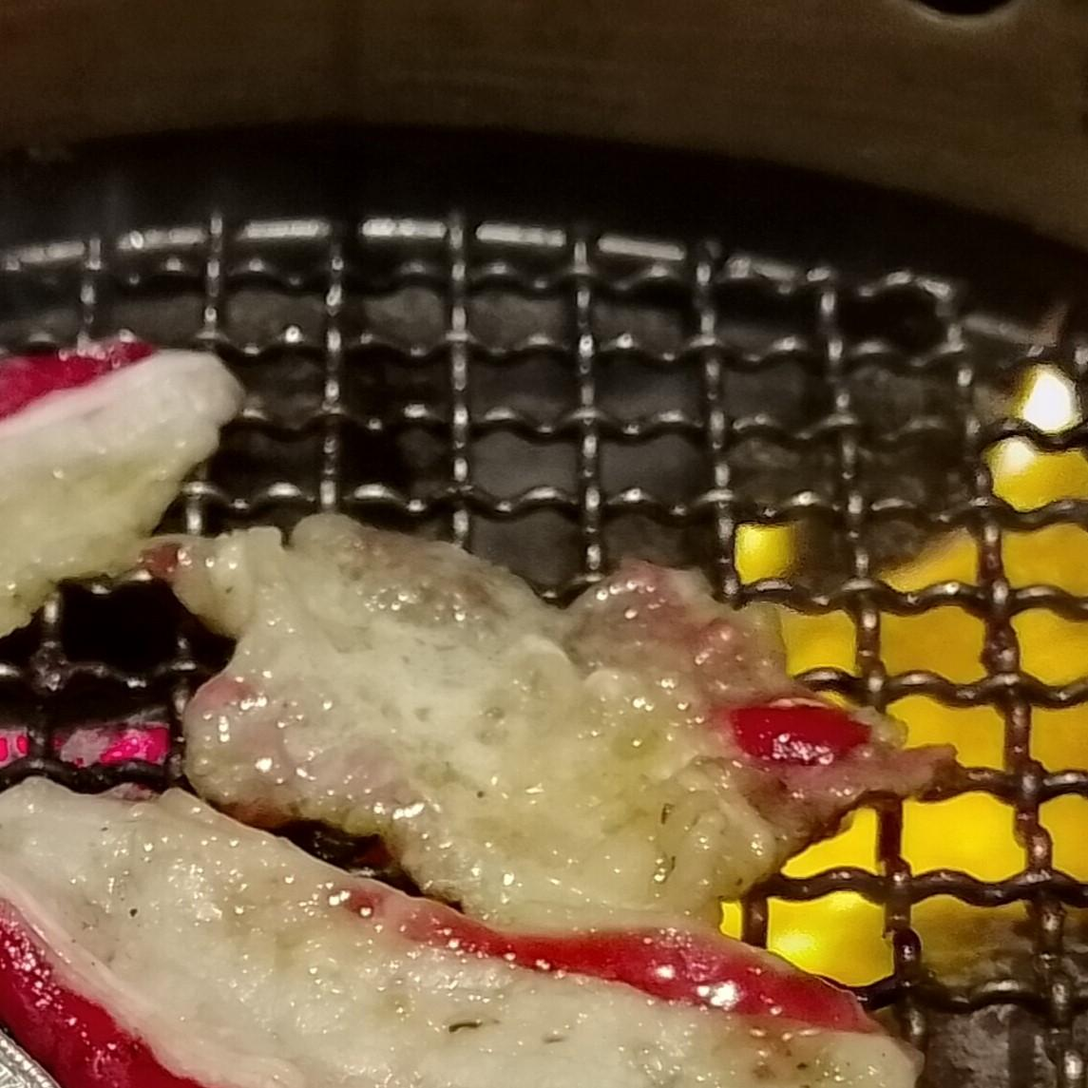Undercooked: (176, 515, 948, 938), (0, 780, 699, 1087), (0, 340, 247, 612), (521, 940, 917, 1087), (0, 902, 205, 1087)
